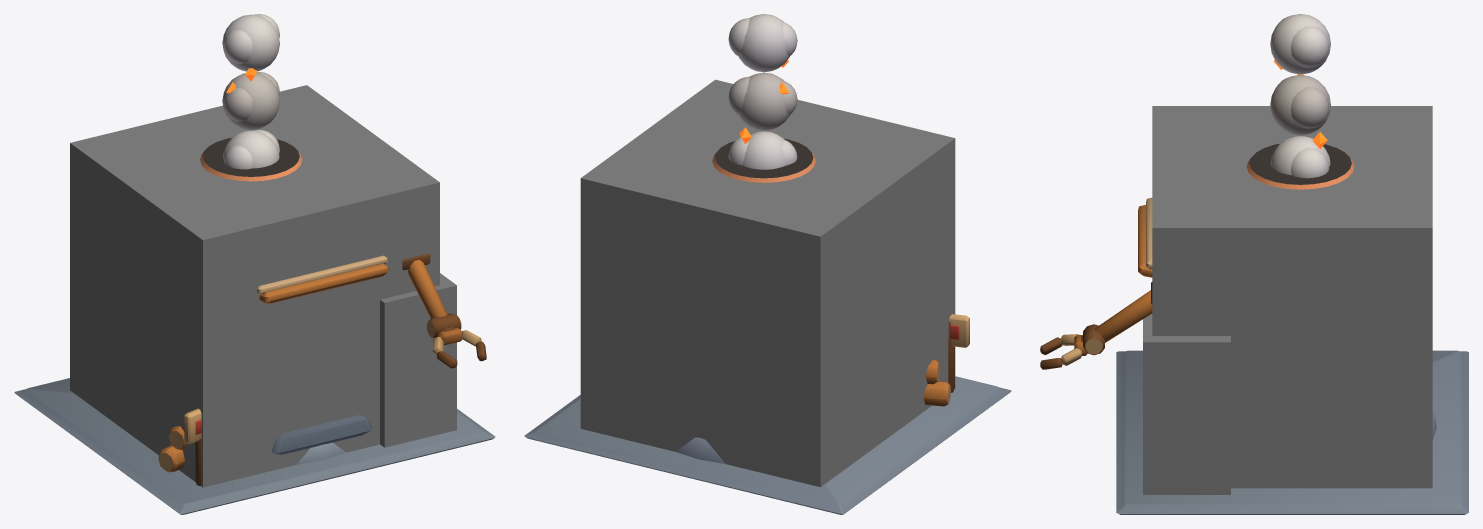
File: side_dryer.glb
3 renders of one model, left to right at view 1: azimuth 30°, elevation 25°; view 2: azimuth 150°, elevation 25°; view 3: azimuth 270°, elevation 25°, orthographic. The views are drawn at different scales.
Visible parts, largest first — view 1: COL_KilnBody, SideDryer_Static, COL_CraneBase, Anim_Smoke_03, Anim_Smoke_02, Anim_Smoke_01, ArmElbow_Pitch; view 2: COL_KilnBody, SideDryer_Static, Anim_Smoke_03, Anim_Smoke_02, Anim_Smoke_01; view 3: COL_KilnBody, SideDryer_Static, COL_CraneBase, Anim_Smoke_02, Anim_Smoke_03, Anim_Smoke_01, ArmElbow_Pitch.
Part boxes in pixels (<box>): COL_KilnBody: <box>70,85,439,487</box>; SideDryer_Static: <box>14,138,495,514</box>; COL_CraneBase: <box>380,273,456,447</box>; Anim_Smoke_03: <box>222,14,279,71</box>; Anim_Smoke_02: <box>222,72,279,129</box>; Anim_Smoke_01: <box>223,129,279,169</box>; ArmElbow_Pitch: <box>408,260,461,338</box>; COL_KilnBody: <box>580,79,955,487</box>; SideDryer_Static: <box>524,138,1011,514</box>; Anim_Smoke_03: <box>728,14,797,72</box>; Anim_Smoke_02: <box>728,72,797,130</box>; Anim_Smoke_01: <box>728,131,797,169</box>; COL_KilnBody: <box>1152,106,1432,488</box>; SideDryer_Static: <box>1116,143,1468,514</box>; COL_CraneBase: <box>1143,313,1230,494</box>; Anim_Smoke_02: <box>1270,75,1330,135</box>; Anim_Smoke_03: <box>1270,14,1330,74</box>; Anim_Smoke_01: <box>1270,136,1330,178</box>; ArmElbow_Pitch: <box>1083,290,1152,355</box>.
Bounding box in the file's own units: 2.4 × 2.89 × 2.68.
